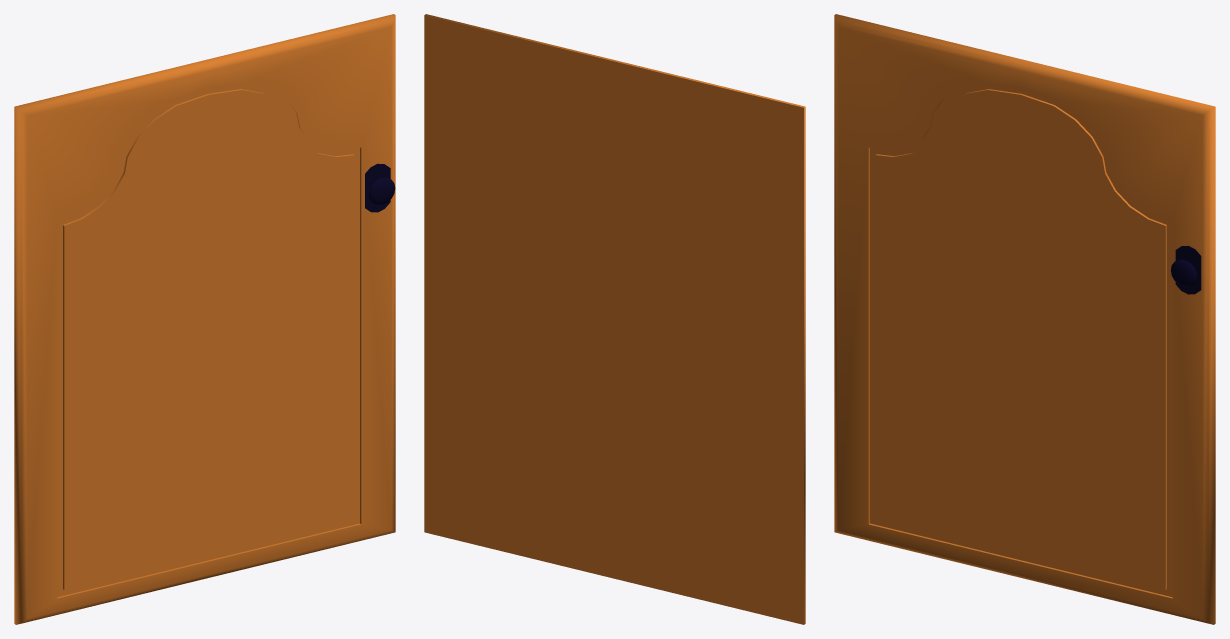
The model's file is GB_Porte_petite.fbx.
3 renders of one model, left to right at view 1: azimuth 30°, elevation 25°; view 2: azimuth 150°, elevation 25°; view 3: azimuth 330°, elevation 25°, orthographic.
Visible parts, largest first — view 1: Porte_petite; view 2: Porte_petite; view 3: Porte_petite.
Part boxes in pixels (box(x1,y1,x2,y2)): Porte_petite: box(14, 14, 395, 624); Porte_petite: box(424, 14, 805, 624); Porte_petite: box(834, 14, 1215, 624).
Size of the model in its own units: 0.6106 by 0.7951 by 0.0339.
